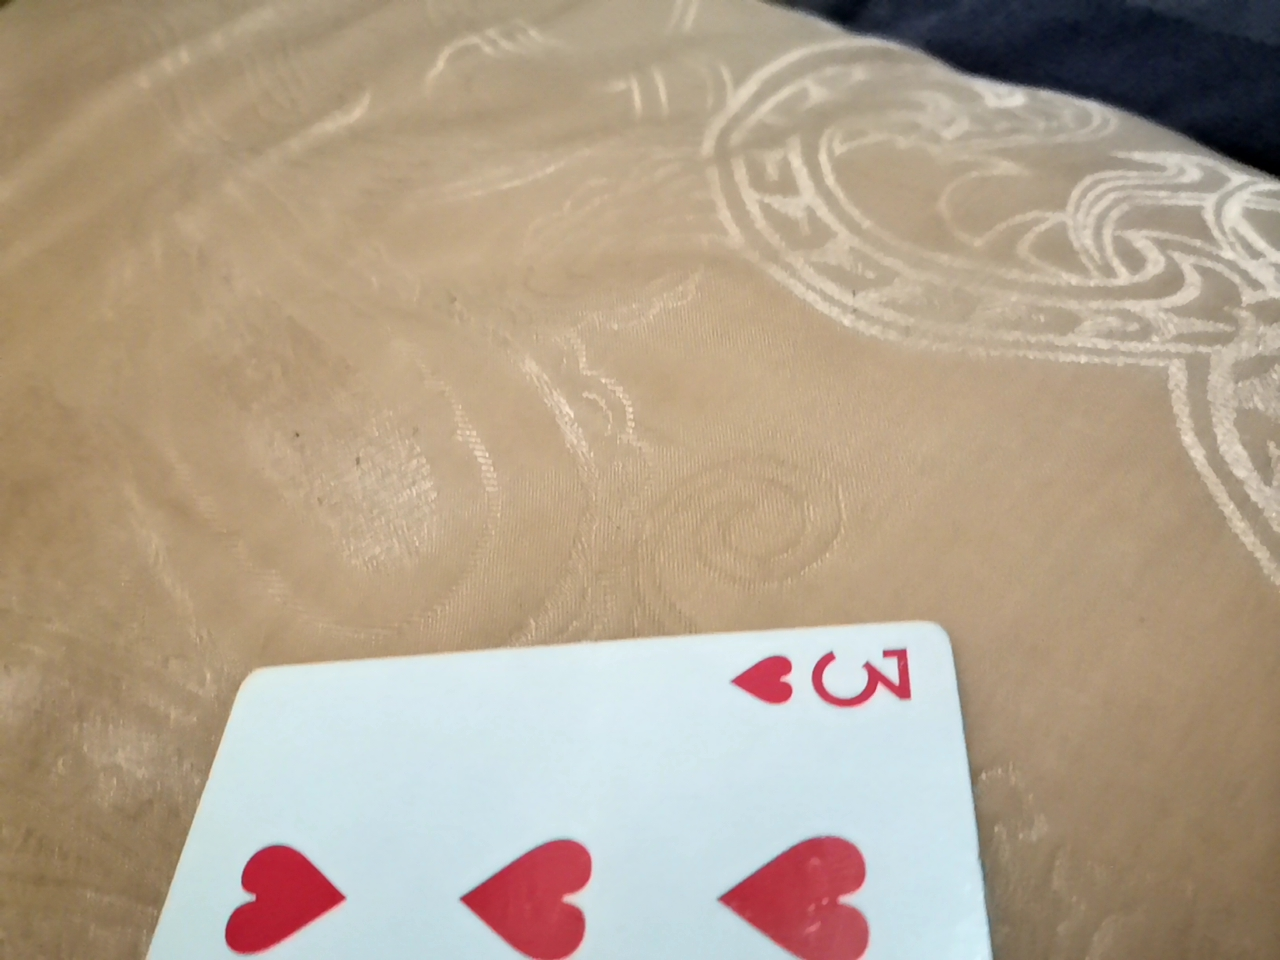hx 3: (100, 634, 982, 960)
